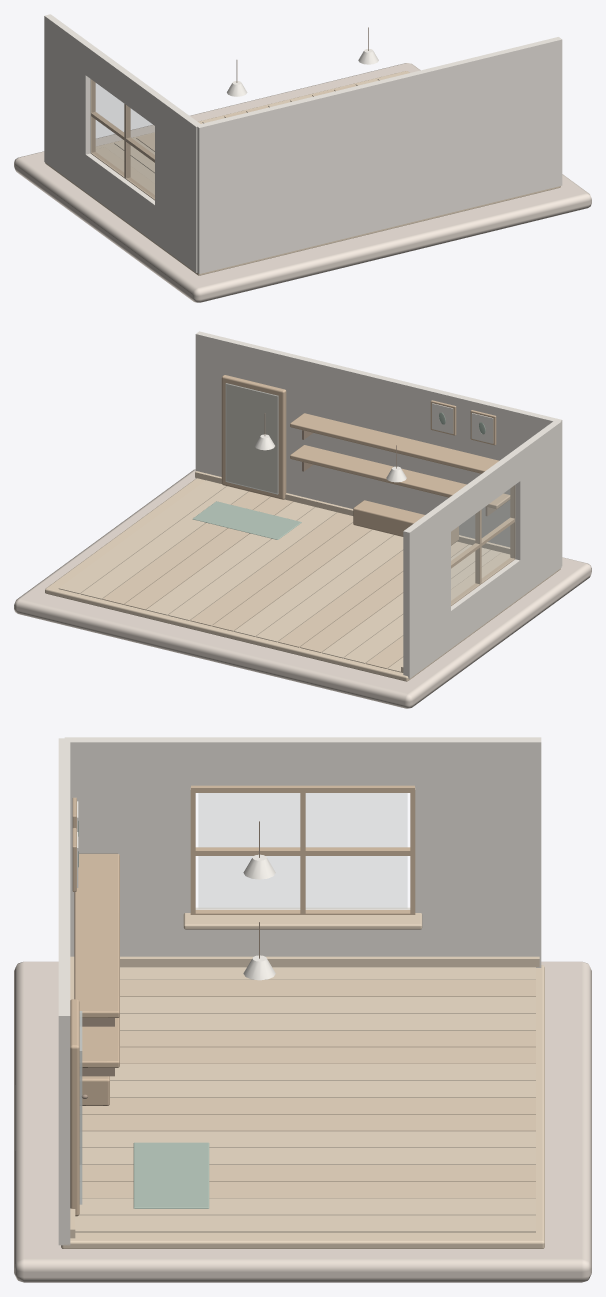
The model's file is room-w1_1a1.glb.
3 renders of one model, top to bottom at view 1: azimuth 30°, elevation 25°; view 2: azimuth 150°, elevation 25°; view 3: azimuth 270°, elevation 25°, orthographic. The views are drawn at different scales.
Parts seen in each view (by area): view 1: room-w1_1a1.material2, room-w1_1a1.material0, room-w1_1a1.material10, room-w1_1a1.material1, room-w1_1a1.material5, room-w1_1a1.material8, room-w1_1a1.material13, room-w1_1a1.material9; view 2: room-w1_1a1.material2, room-w1_1a1.material8, room-w1_1a1.material0, room-w1_1a1.material5, room-w1_1a1.material9, room-w1_1a1.material1, room-w1_1a1.material6, room-w1_1a1.material10, room-w1_1a1.material4, room-w1_1a1.material11, room-w1_1a1.material3; view 3: room-w1_1a1.material2, room-w1_1a1.material8, room-w1_1a1.material9, room-w1_1a1.material0, room-w1_1a1.material10, room-w1_1a1.material5, room-w1_1a1.material1, room-w1_1a1.material3, room-w1_1a1.material4, room-w1_1a1.material13, room-w1_1a1.material6.
Part boxes in pixels (x1,y1,x2,y2): room-w1_1a1.material2: [44, 14, 562, 273]; room-w1_1a1.material0: [14, 63, 591, 302]; room-w1_1a1.material10: [91, 80, 154, 199]; room-w1_1a1.material1: [45, 71, 560, 275]; room-w1_1a1.material5: [90, 79, 154, 200]; room-w1_1a1.material8: [95, 73, 400, 183]; room-w1_1a1.material13: [227, 49, 378, 96]; room-w1_1a1.material9: [136, 84, 356, 151]; room-w1_1a1.material2: [195, 331, 562, 678]; room-w1_1a1.material8: [58, 480, 509, 672]; room-w1_1a1.material0: [14, 469, 591, 708]; room-w1_1a1.material5: [221, 375, 515, 605]; room-w1_1a1.material9: [102, 491, 468, 668]; room-w1_1a1.material1: [45, 478, 560, 681]; room-w1_1a1.material6: [225, 383, 278, 494]; room-w1_1a1.material10: [451, 485, 514, 605]; room-w1_1a1.material4: [192, 501, 301, 539]; room-w1_1a1.material11: [432, 403, 493, 443]; room-w1_1a1.material3: [195, 471, 510, 672]; room-w1_1a1.material2: [58, 737, 541, 1245]; room-w1_1a1.material8: [75, 967, 535, 1232]; room-w1_1a1.material9: [82, 980, 535, 1198]; room-w1_1a1.material0: [14, 961, 591, 1282]; room-w1_1a1.material10: [198, 793, 407, 908]; room-w1_1a1.material5: [70, 785, 415, 1216]; room-w1_1a1.material1: [61, 913, 544, 1248]; room-w1_1a1.material3: [70, 956, 539, 1238]; room-w1_1a1.material4: [133, 1142, 209, 1208]; room-w1_1a1.material13: [243, 854, 275, 980]; room-w1_1a1.material6: [79, 1011, 82, 1204].
Size of the model in its own units: 10 by 3.92 by 8.
